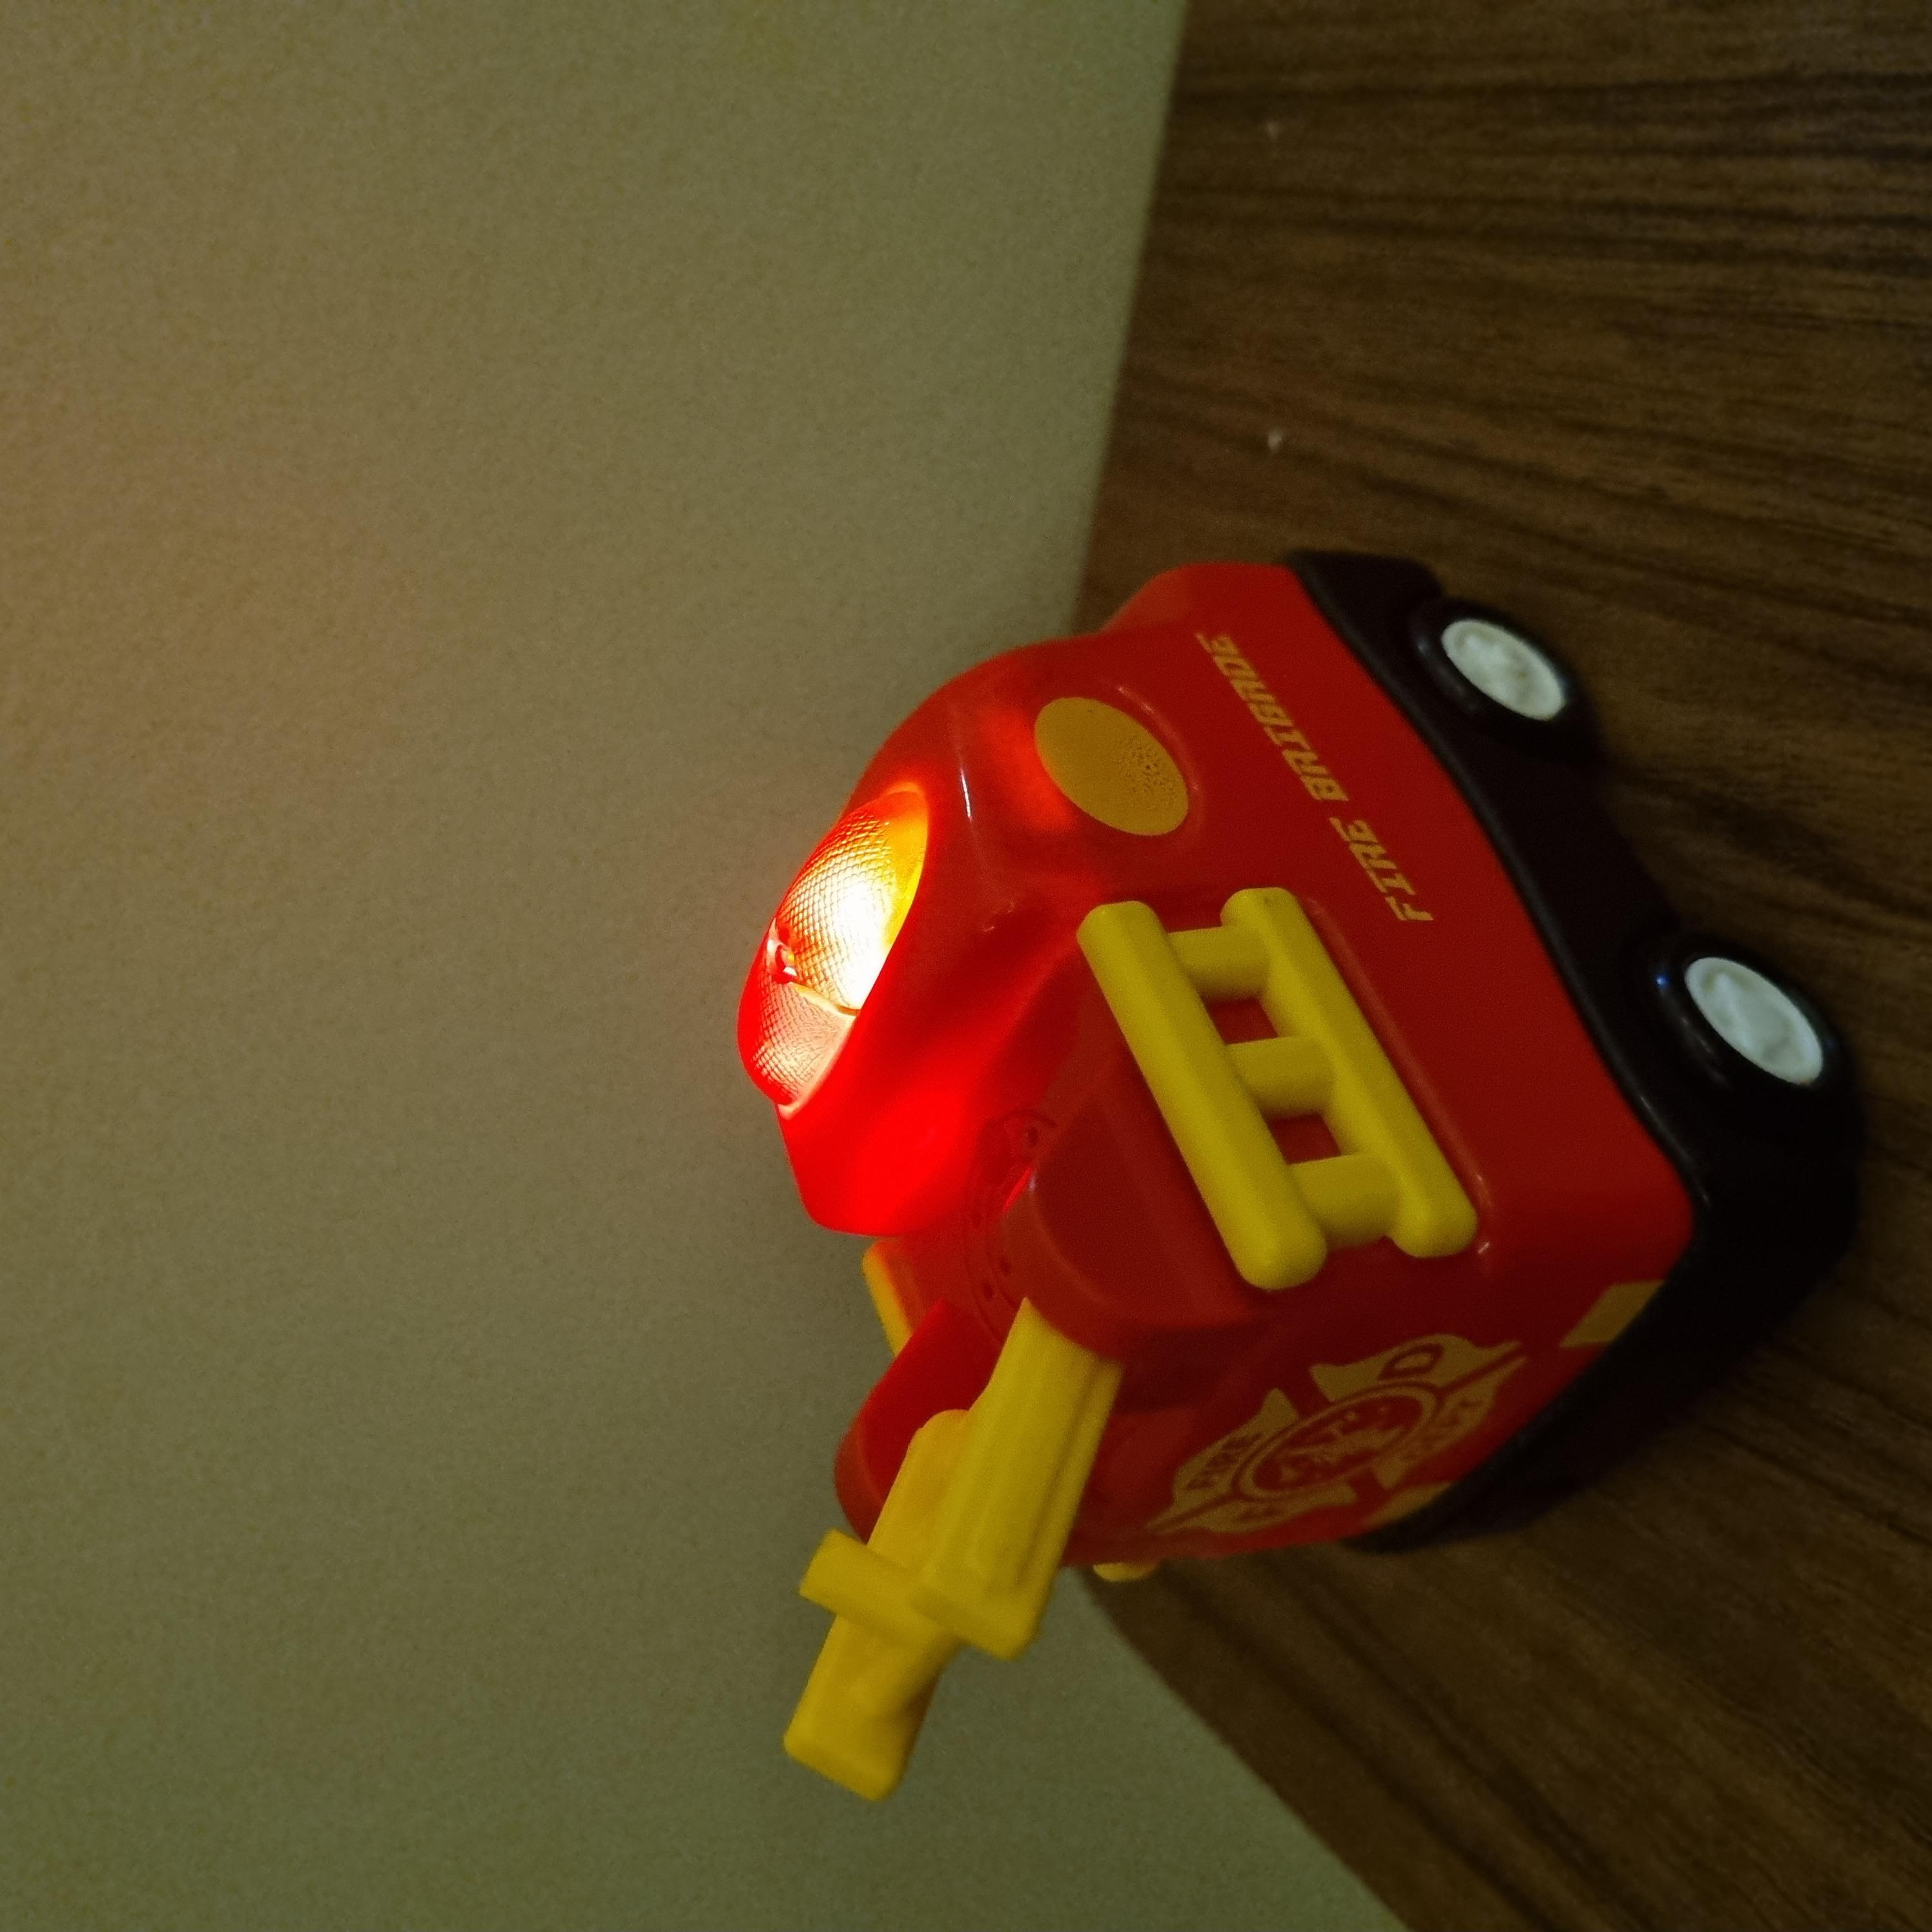firetruck_on: (133, 740, 1376, 1851)
